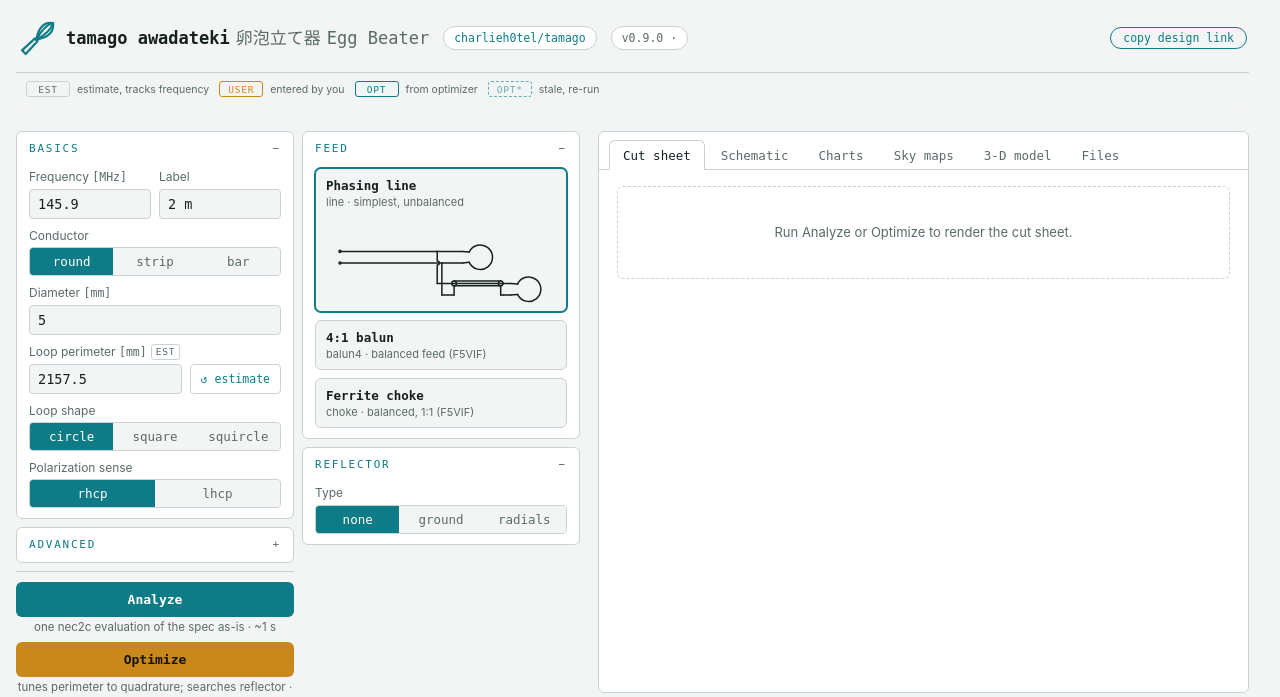
squircle corner radius › shows the corner-radius field only for squircle
Click the button "square" at (155, 436), box [113,423,197,450]
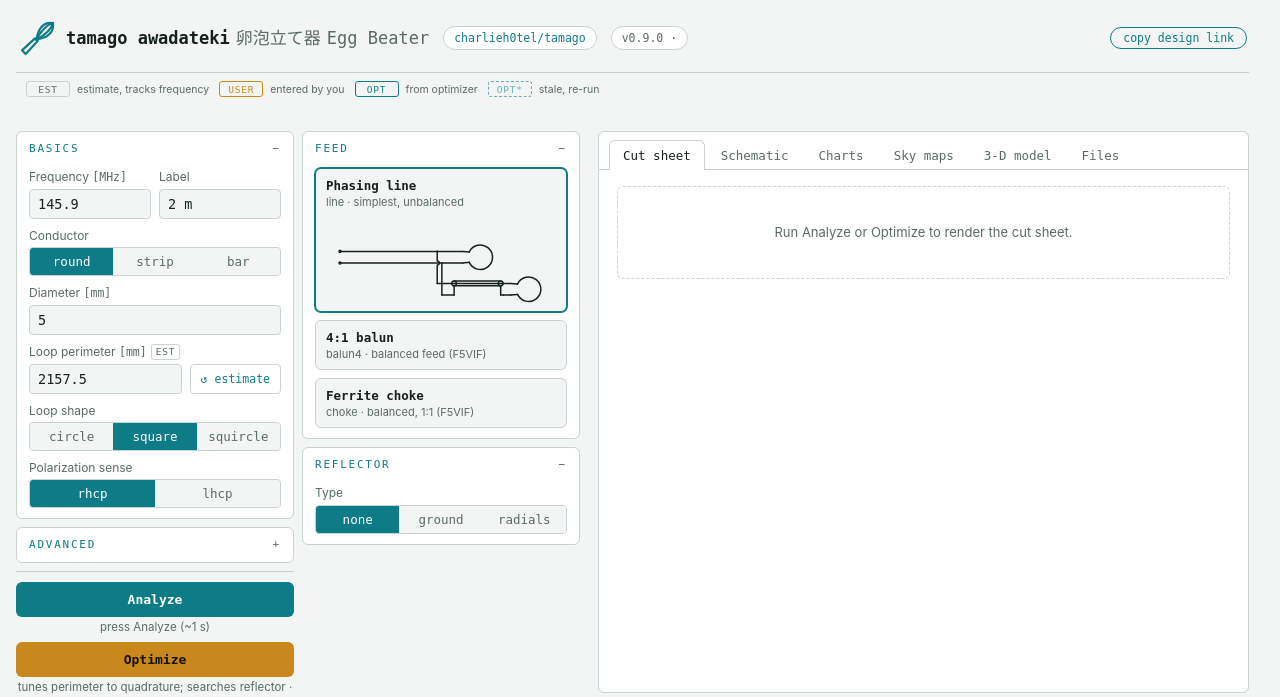
Click the button "squircle" at (238, 436), box [197,423,280,450]
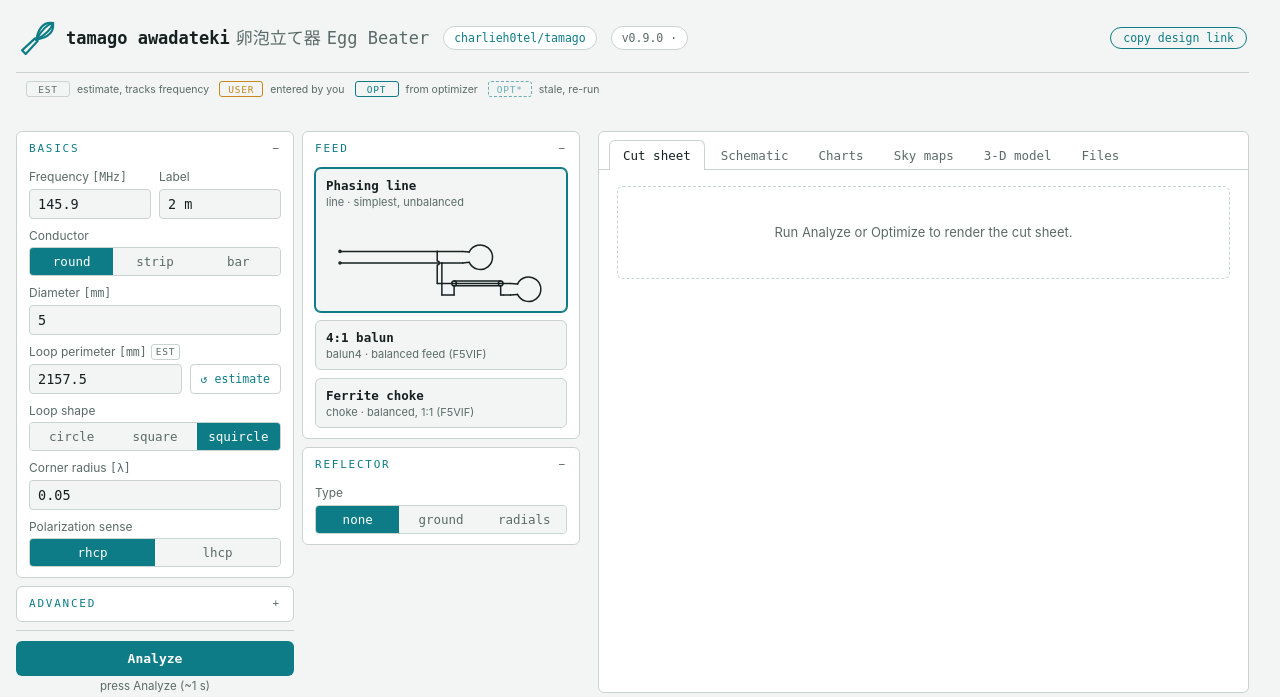
Now the number field with id "corner" is shown
Note: Editing it is reflected in the field.
Replace the text in the number field with id "corner" with "0.08" at (155, 495), box [29,480,281,510]
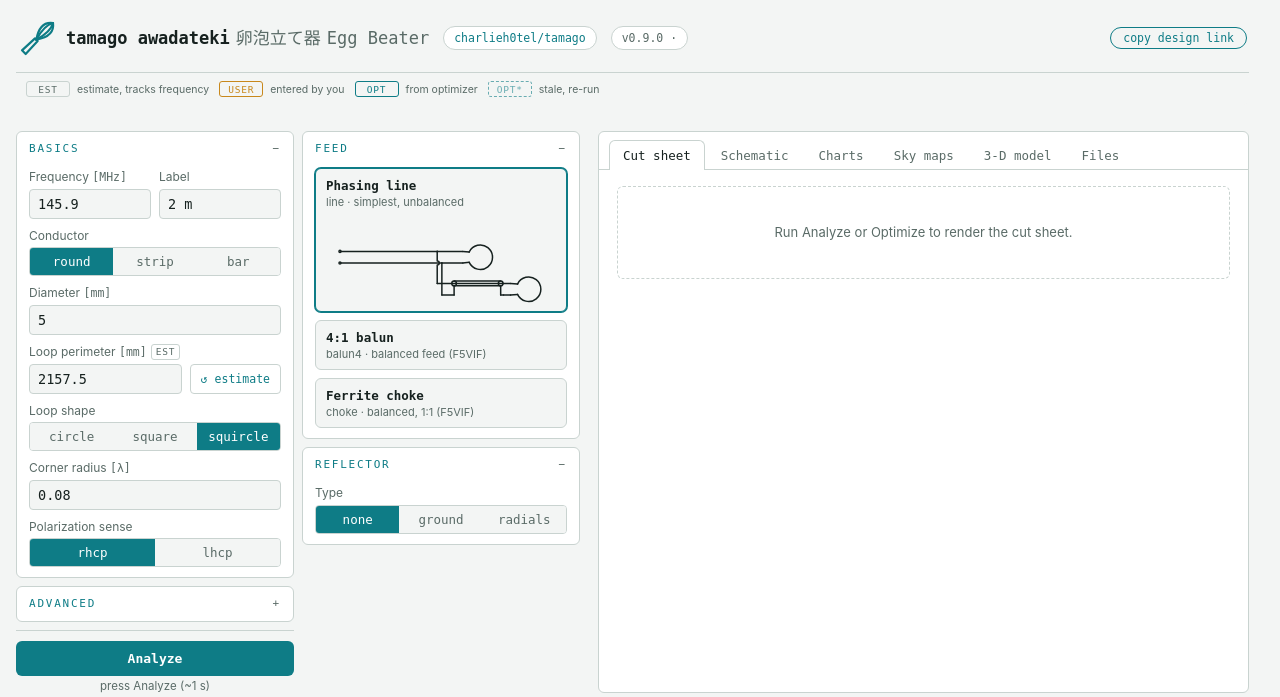
Note: Leaving squircle removes the field again.
Click the button "circle" at (72, 436), box [30,423,113,450]
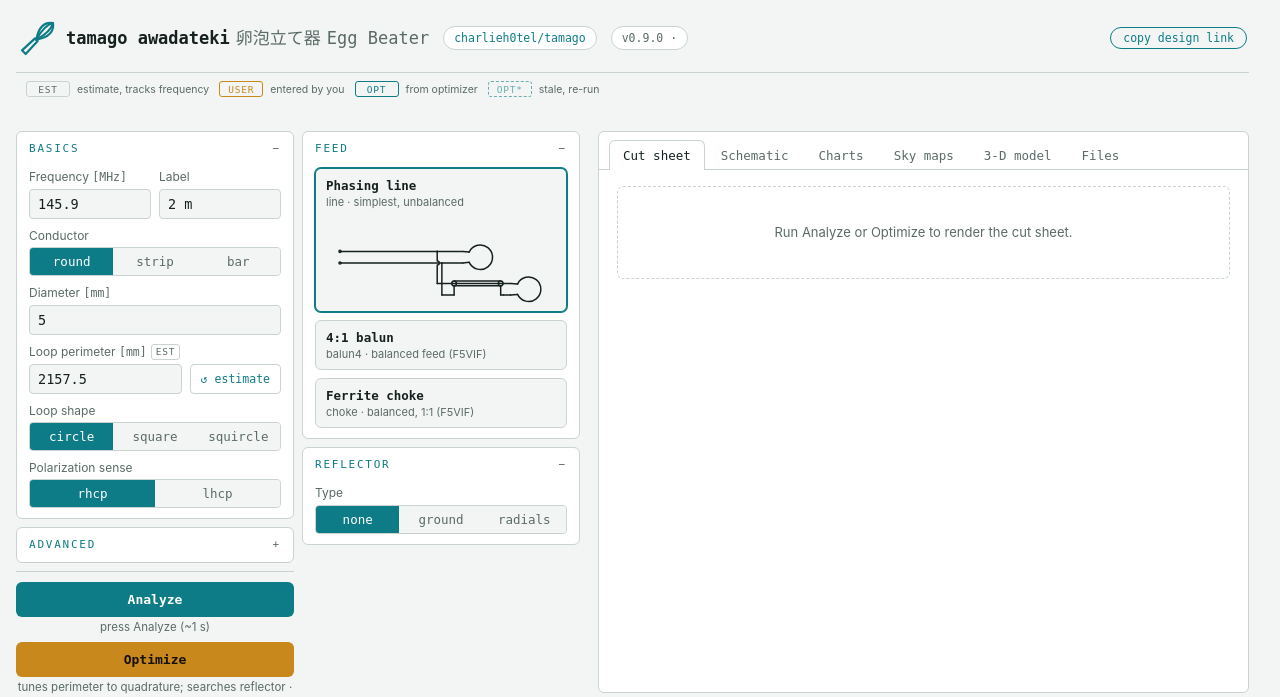
Now the label with id "corner" is gone
